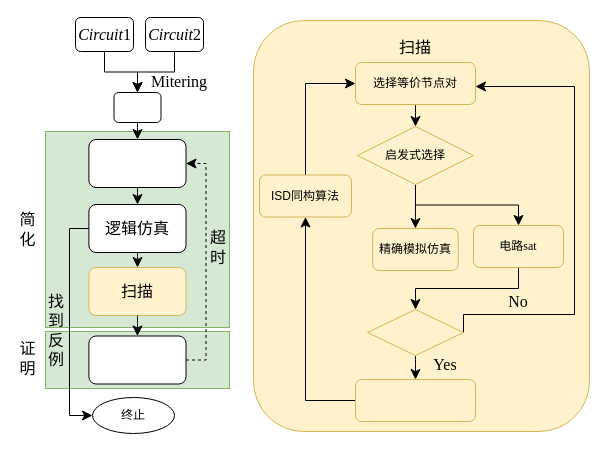
Image size: 607x451. Some labels were removed from this diagram. Each missing label, with the centre of its shape:
"M 0" goes at pixel 137 107.
"合并节点对" goes at pixel 415 400.
"是否等价" goes at pixel 415 332.
"等价验证" goes at pixel 137 359.
"逻辑综合" goes at pixel 137 163.
